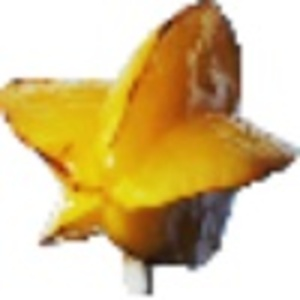carambola: (1, 1, 300, 287)
